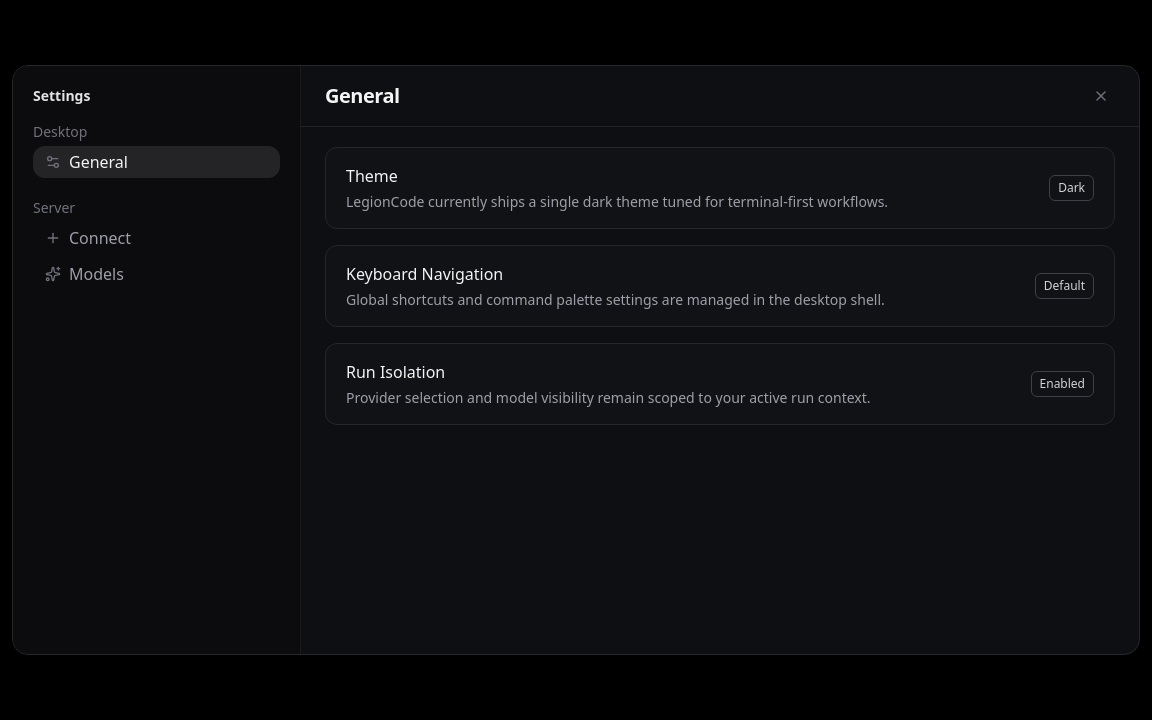
Test case: SettingsDialog › switches between General, Connect, and Models sections
Expected: the heading "General" is shown, [325,82,400,110]
Click the button "Connect" at (156, 238), box [33,222,280,254]
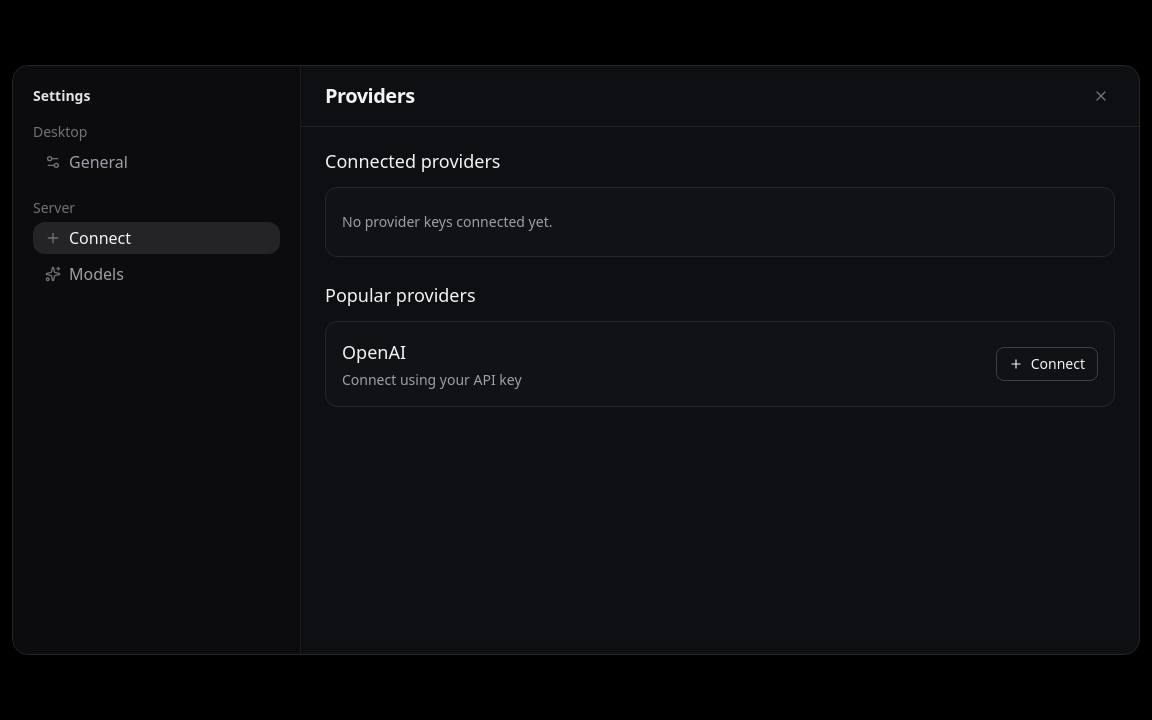
Expected: the heading "Providers" is shown, [325,82,415,110]
Expected: the heading "Connected providers" is shown, [325,149,500,173]
Click the button "Models" at (156, 274), box [33,258,280,290]
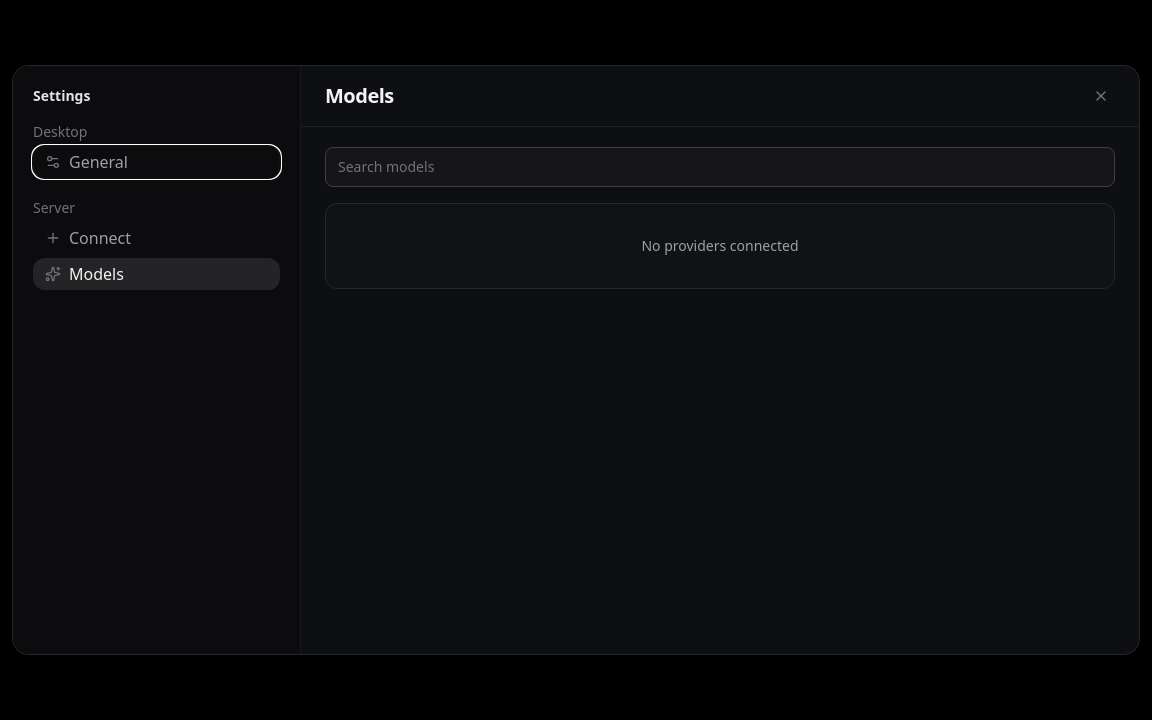
Expected: the heading "Models" is shown, [325,82,394,110]
